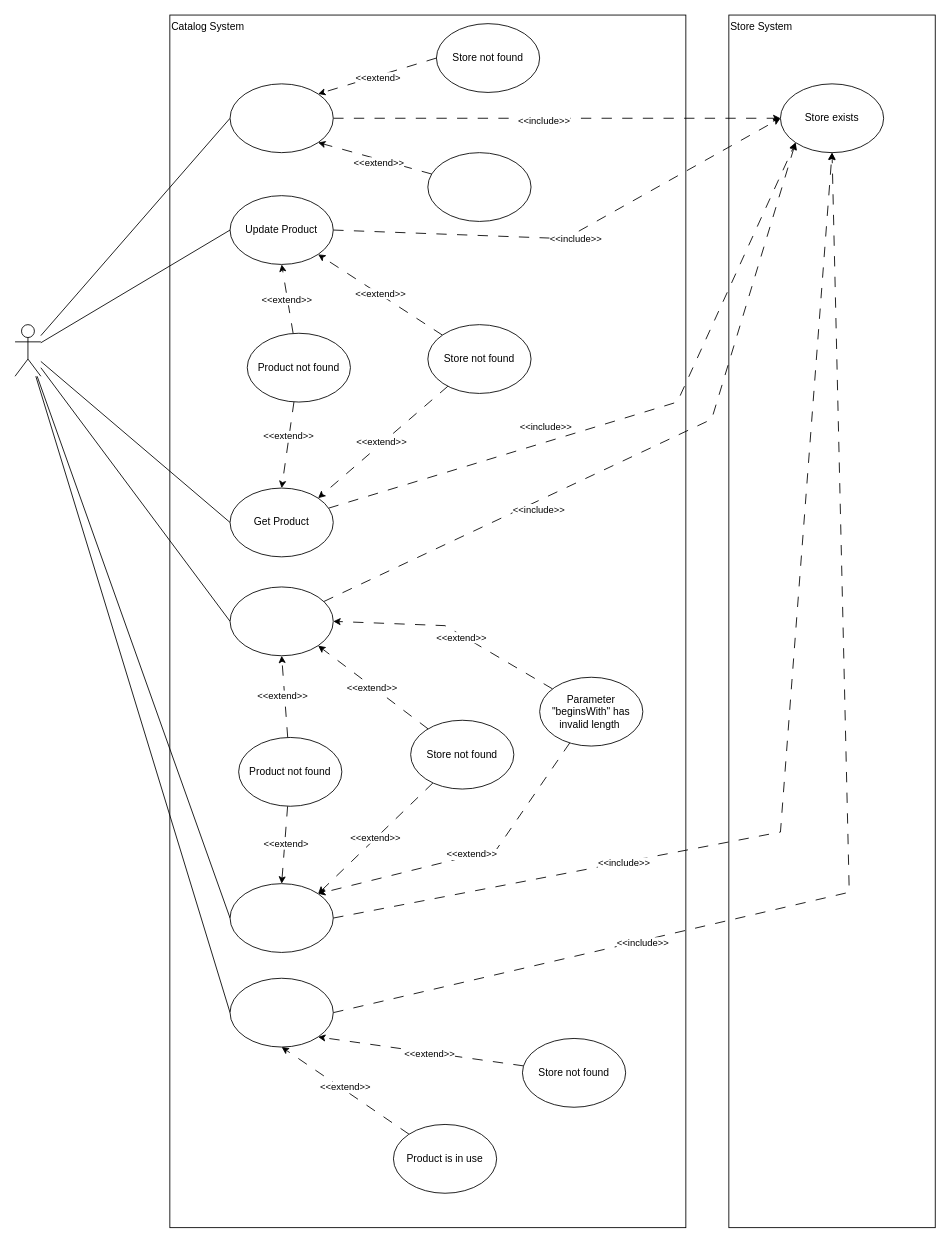
Some shapes in this 950 by 1243 pixel diagram are drawn without their labels. The shapes that lost their labels are listed below. From the top down, each one's centre as x and y in pixels, then its label:
pixel 281 118: Create Product
pixel 479 186: Product already exists
pixel 27 350: Store
pixel 281 621: Count Products
pixel 281 917: Gets Products
pixel 281 1012: Delete Product
